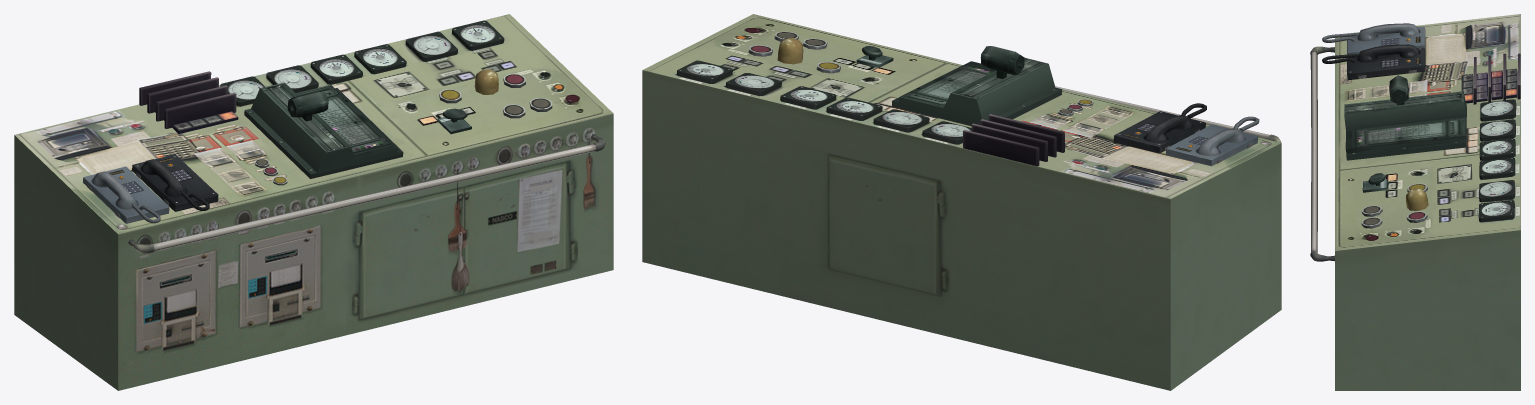
The model's file is Machine_big02.FBX.
The picture shows the model from 3 angles, left to right: view 1: azimuth 30°, elevation 25°; view 2: azimuth 150°, elevation 25°; view 3: azimuth 270°, elevation 25°; orthographic projection. The views are drawn at different scales.
Parts seen in each view (by area): view 1: Machine_big02; view 2: Machine_big02; view 3: Machine_big02.
Boxes of the visible parts, x1,y1,x2,y2 form: Machine_big02: [14, 14, 613, 390]; Machine_big02: [642, 14, 1281, 390]; Machine_big02: [1310, 14, 1520, 390].
Size of the model in its own units: 2.51 by 1.04 by 1.03.
